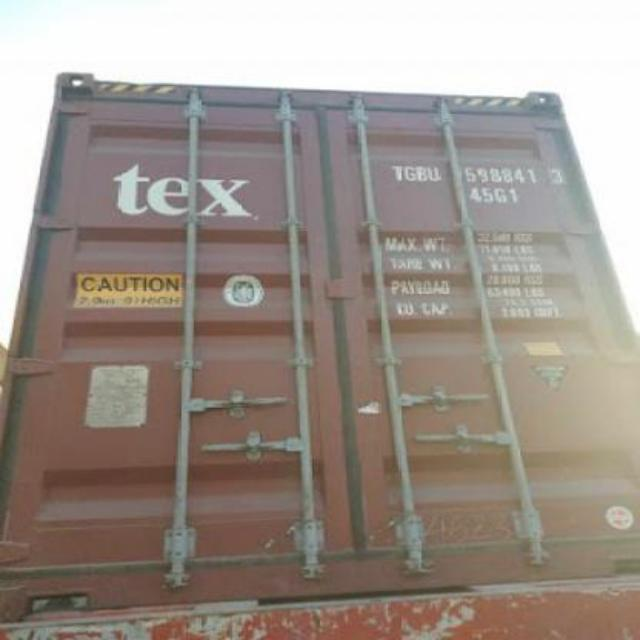1: (524, 162, 540, 184)
3: (544, 160, 568, 186)
4: (512, 158, 526, 188)
5: (464, 160, 476, 184)
8: (488, 156, 502, 184), (502, 164, 514, 182)
9: (476, 159, 488, 185)
B: (414, 158, 428, 188)
G: (402, 159, 416, 185)
T: (386, 162, 404, 182)
U: (426, 162, 444, 186)
